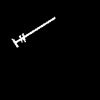treble_crochet: (12, 17, 54, 46)
